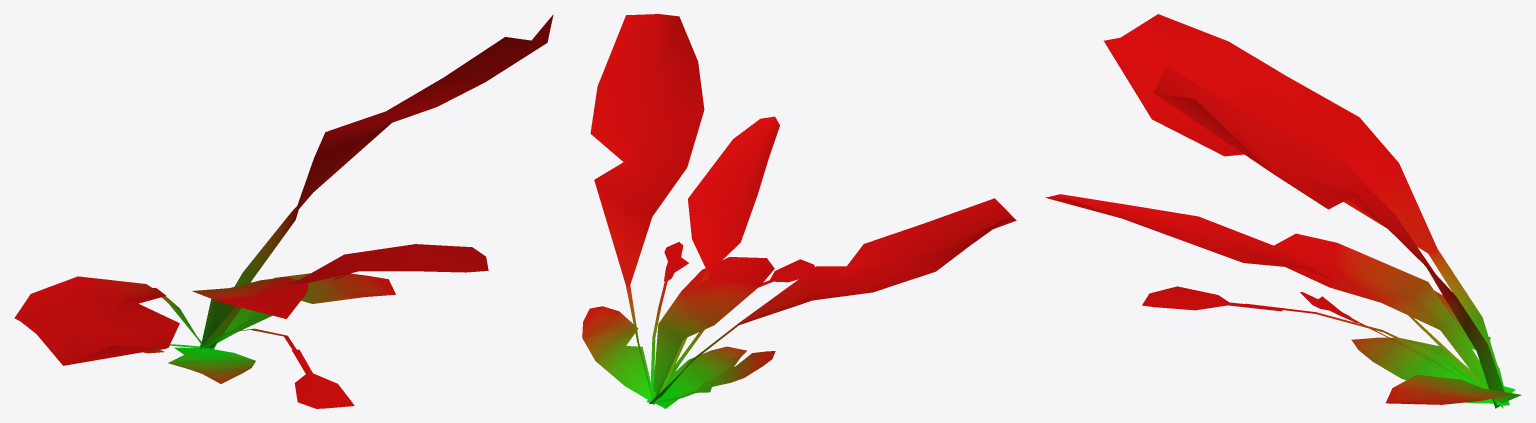
Rendered from Var18_LOD1.fbx.
The picture shows the model from 3 angles, left to right: view 1: azimuth 30°, elevation 25°; view 2: azimuth 150°, elevation 25°; view 3: azimuth 270°, elevation 25°; orthographic projection. The views are drawn at different scales.
Visible parts, largest first — view 1: _iryi_Var18_LOD1; view 2: _iryi_Var18_LOD1; view 3: _iryi_Var18_LOD1.
Boxes of the visible parts, x1,y1,x2,y2 form: _iryi_Var18_LOD1: (14,14,553,408); _iryi_Var18_LOD1: (582,14,1016,408); _iryi_Var18_LOD1: (1045,14,1521,408).
Bounding box in the file's own units: 25.96 × 18.84 × 20.05.
